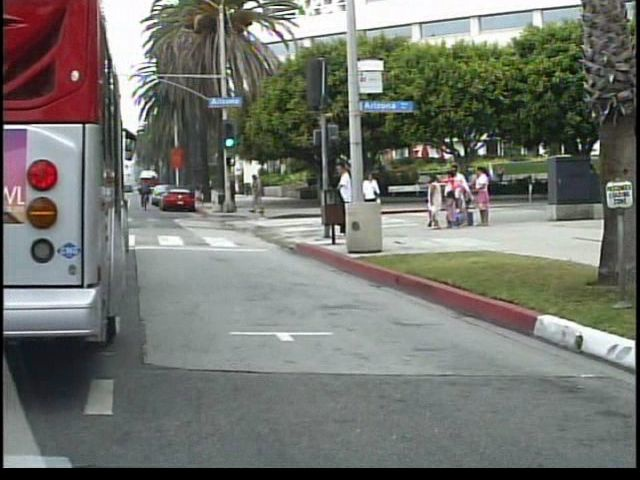person: (335, 159, 360, 239), (363, 167, 387, 229), (251, 169, 271, 213)
